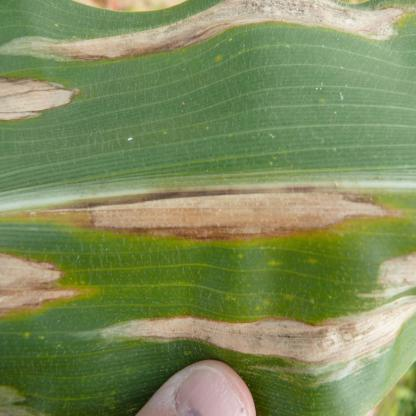Corn leaf blight: (2, 6, 416, 360)
